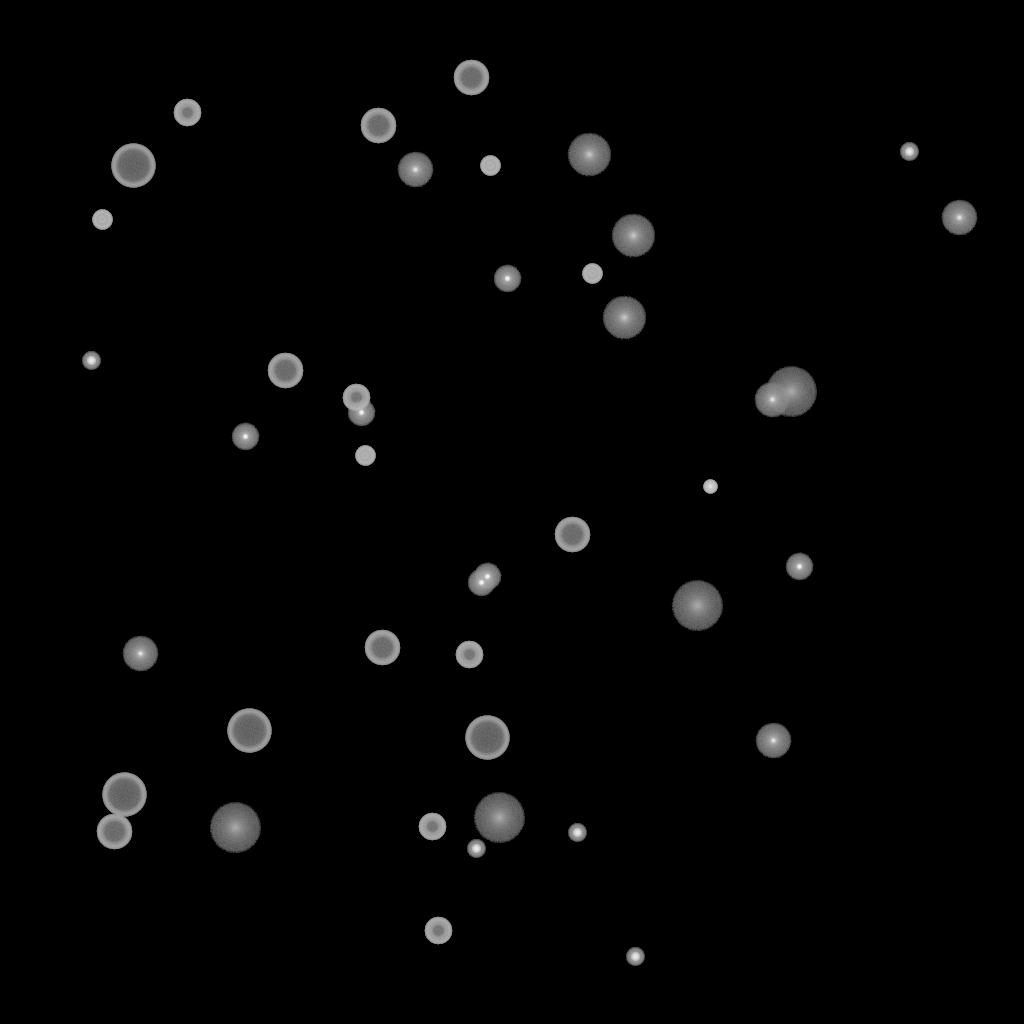depth:-10: (473, 563, 501, 591), (785, 553, 813, 581), (467, 569, 495, 597), (347, 399, 375, 427), (493, 265, 521, 293), (231, 423, 259, 451)
depth:-20: (626, 948, 644, 966), (900, 143, 918, 161), (568, 824, 586, 842), (467, 840, 485, 858), (82, 352, 100, 370)
depth:-30: (703, 480, 717, 494)
depth:-40: (92, 210, 112, 230), (582, 264, 602, 284), (355, 446, 375, 466), (480, 156, 500, 176)
depth:-50: (418, 813, 446, 841), (455, 641, 483, 669), (342, 384, 370, 412), (173, 99, 201, 127), (424, 917, 452, 945)
depth:-60: (453, 60, 489, 96), (360, 108, 396, 144), (364, 630, 400, 666), (554, 517, 590, 553), (267, 353, 303, 389), (96, 814, 132, 850)
depth:-70: (465, 716, 509, 760), (102, 773, 146, 817), (227, 709, 271, 753), (111, 144, 155, 188)
depth:0: (122, 636, 158, 672), (397, 152, 433, 188), (755, 723, 791, 759), (754, 382, 790, 418), (941, 200, 977, 236)
depth:10: (567, 133, 611, 177), (611, 214, 655, 258), (602, 296, 646, 340)
depth:20: (473, 793, 525, 843), (671, 581, 723, 631), (765, 367, 817, 417), (209, 803, 261, 853)
